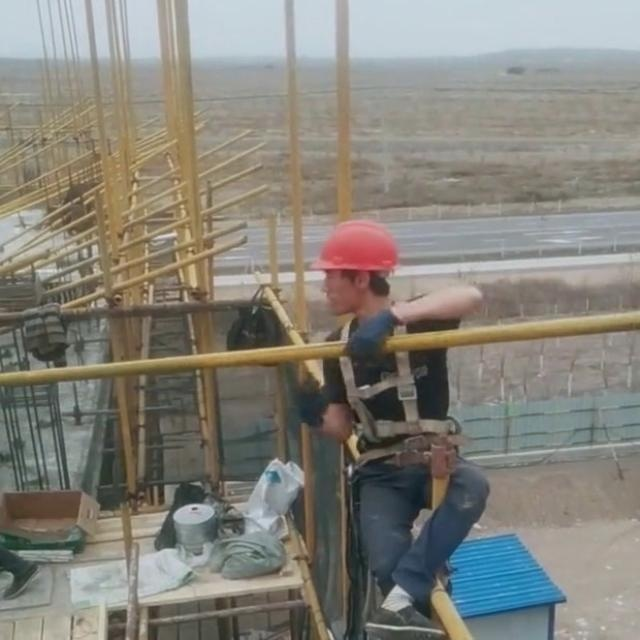Arnes_seguridad: (331, 293, 465, 446)
